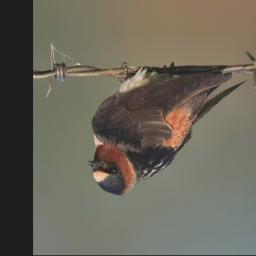Swallow: (87, 61, 249, 198)
